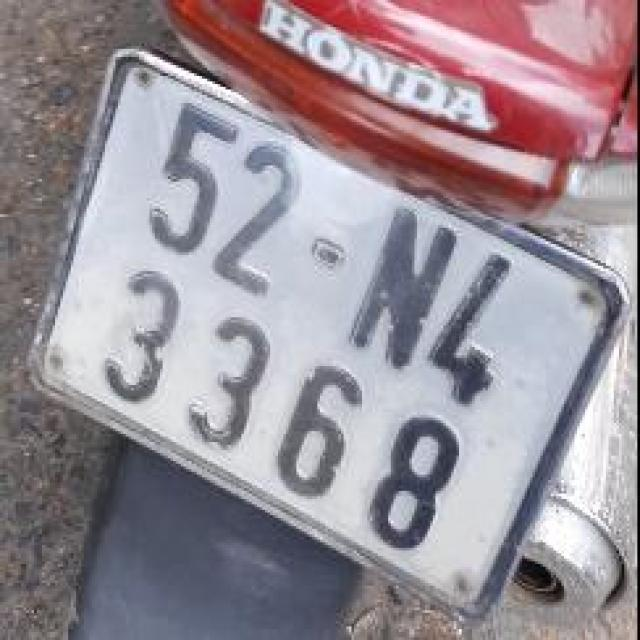2: (192, 122, 327, 315)
3: (170, 304, 288, 468), (93, 257, 195, 418)
4: (403, 239, 549, 424)
5: (127, 89, 252, 280)
6: (261, 344, 378, 519)
8: (345, 400, 480, 583)
N: (337, 200, 467, 380)
